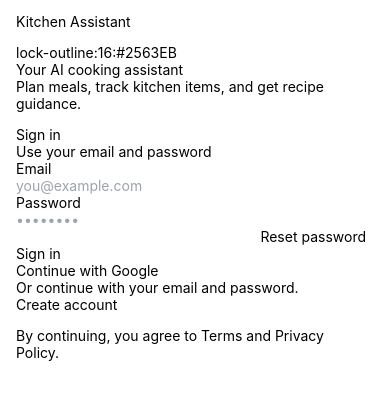
it: AuthScreen › shows an inline error when Google sign-in fails
Click the button "Continue with Google": (87, 270) top-left (16, 262), bottom-right (366, 279)
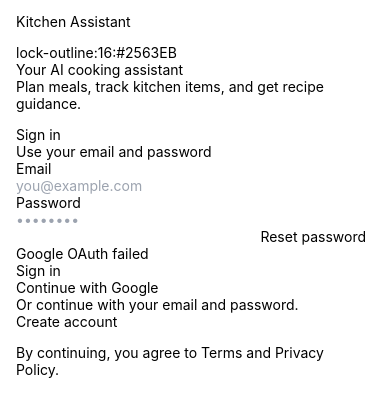
Now the text "Google OAuth failed" is shown, box top-left (16, 245), bottom-right (149, 262)
